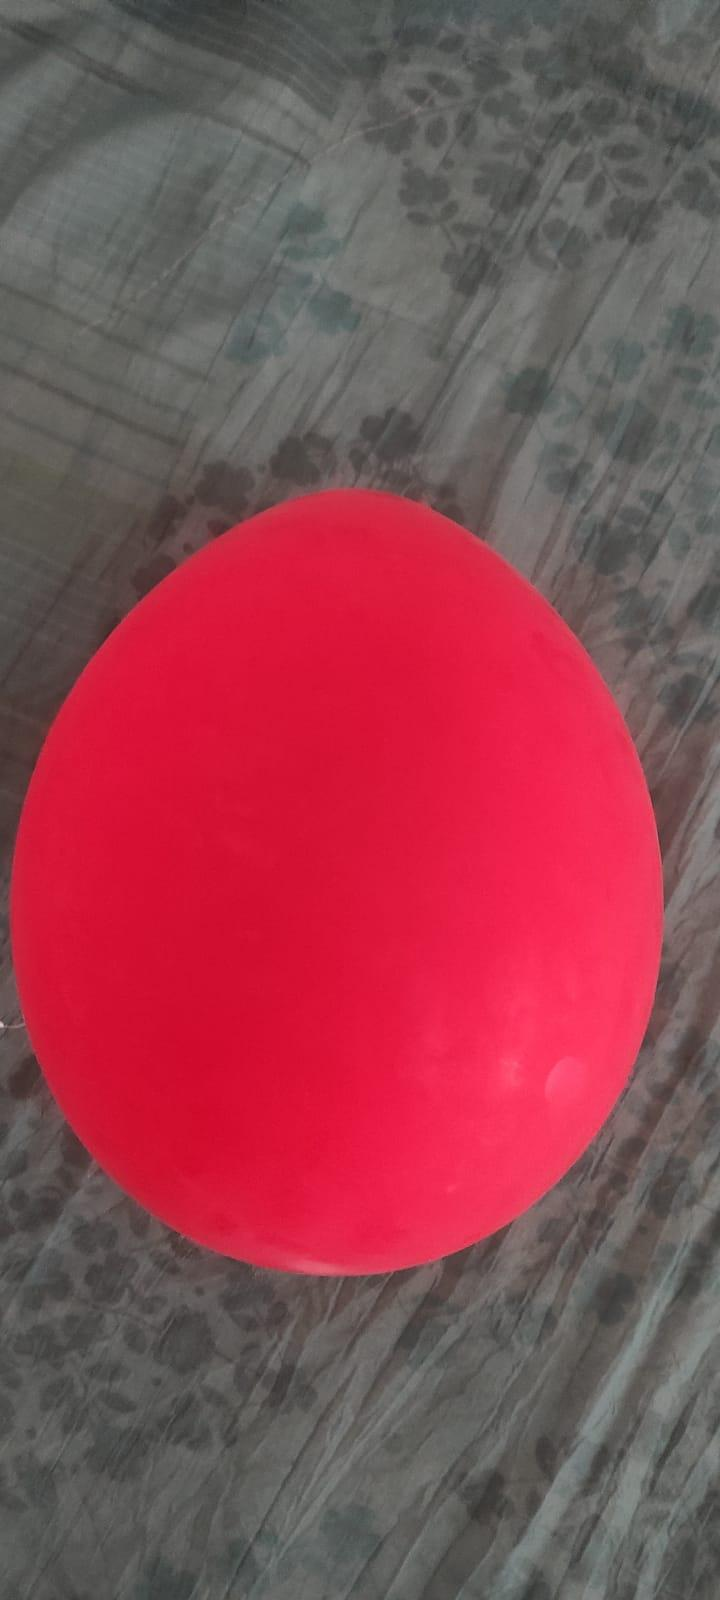red: (0, 478, 674, 1274)
